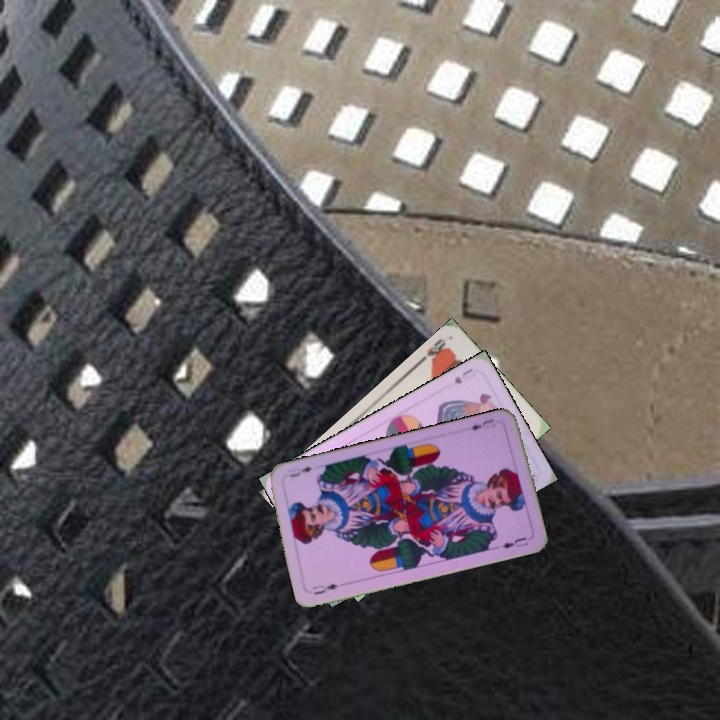EU: (309, 579, 348, 597), (466, 415, 496, 433)
HO: (415, 334, 451, 366)
SU: (448, 364, 476, 386)
